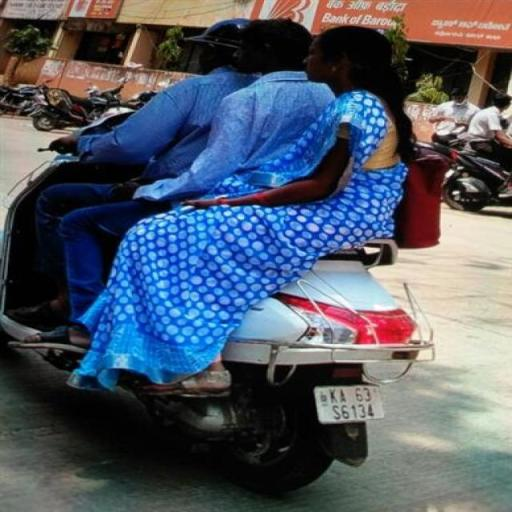tripple riding: (30, 12, 454, 285)
